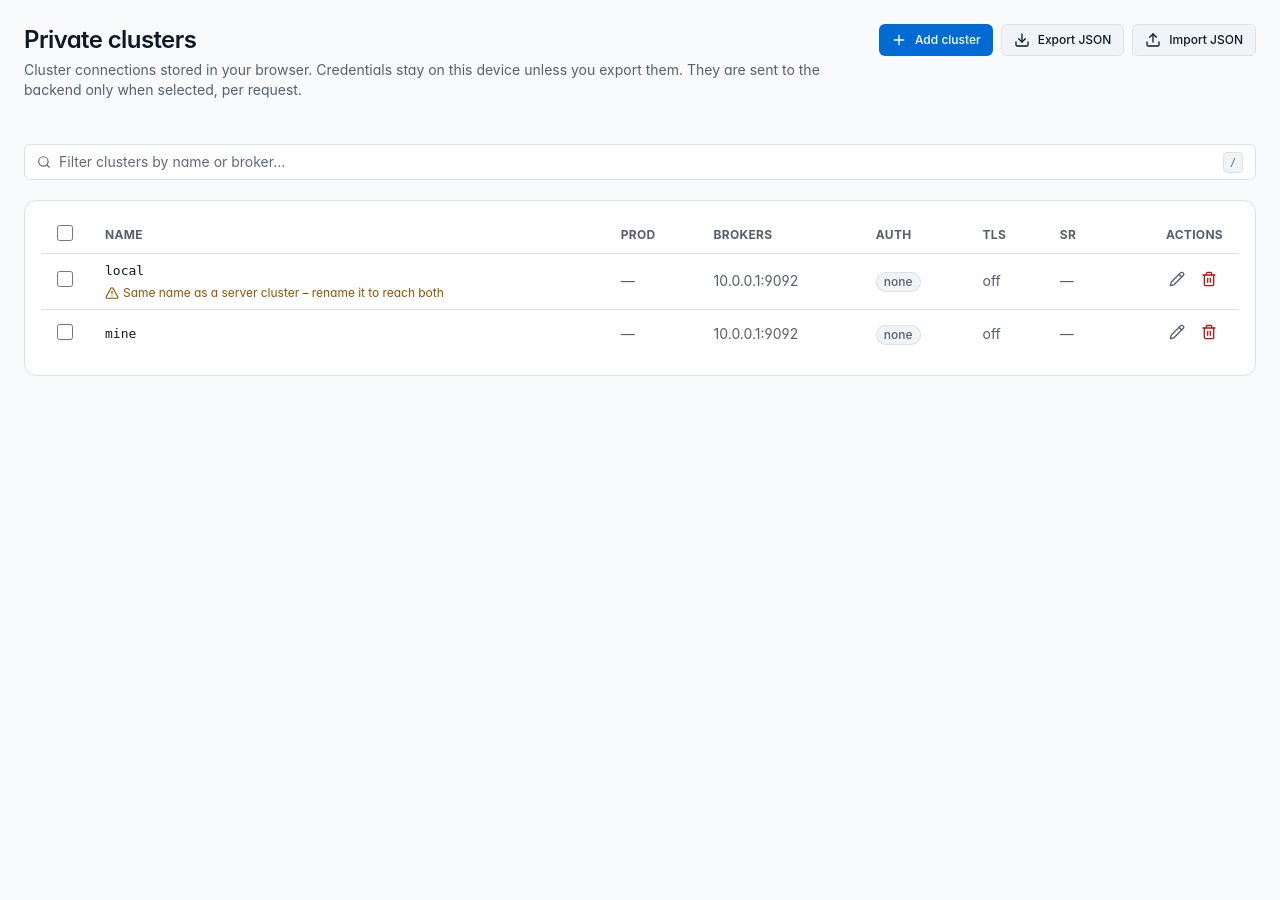
Test case: private cluster settings › flags a stored private cluster that collides, until it is renamed
The width and height of the screenshot is (1280, 900).
Click the button named "Edit" in the row of "local" at [1177, 279], box [1163,265,1191,293]
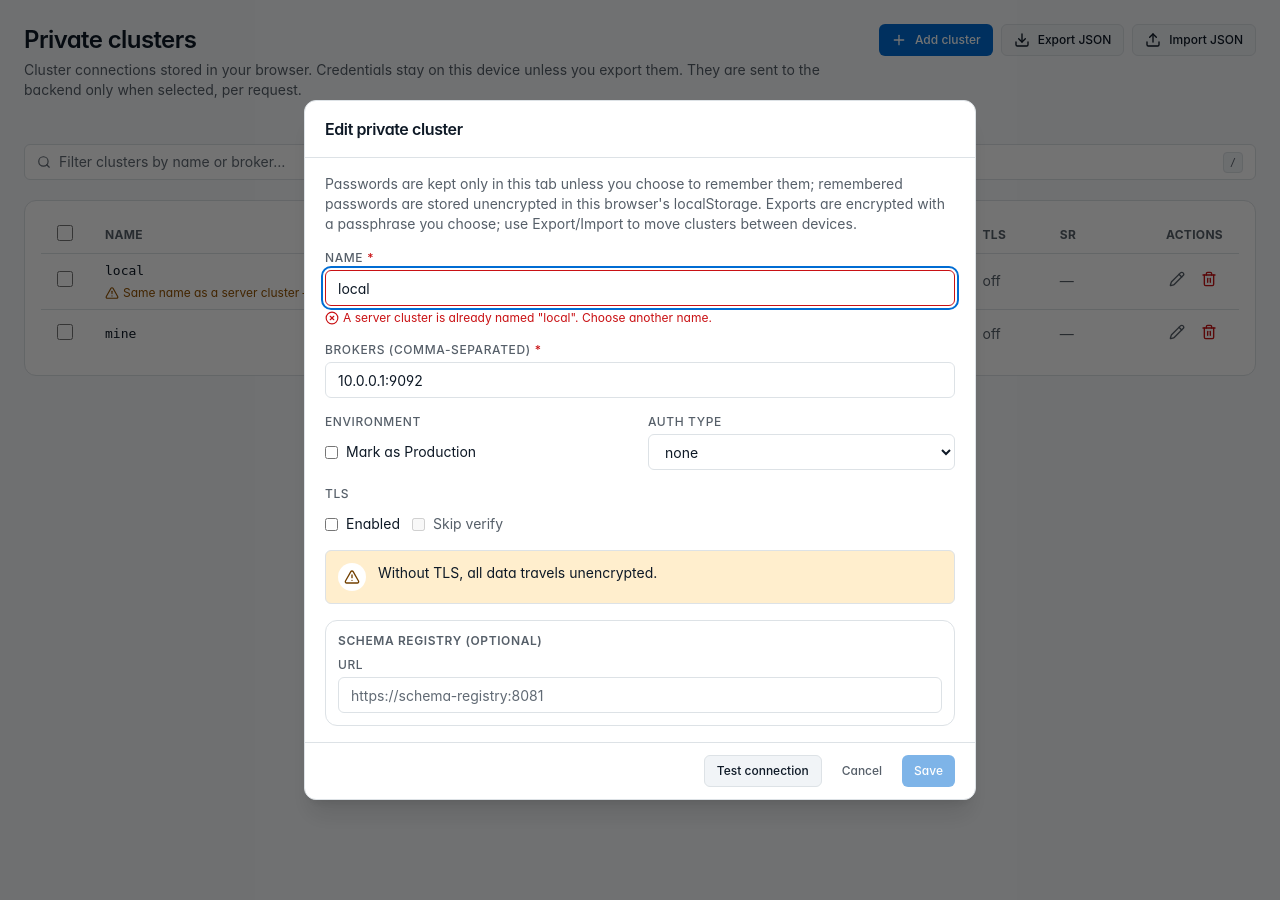
Expected: the button "Save" is disabled, [902,755,955,787]
Clear the field with placeholder "my-dev-cluster" at [640, 288], box [325,270,955,306]
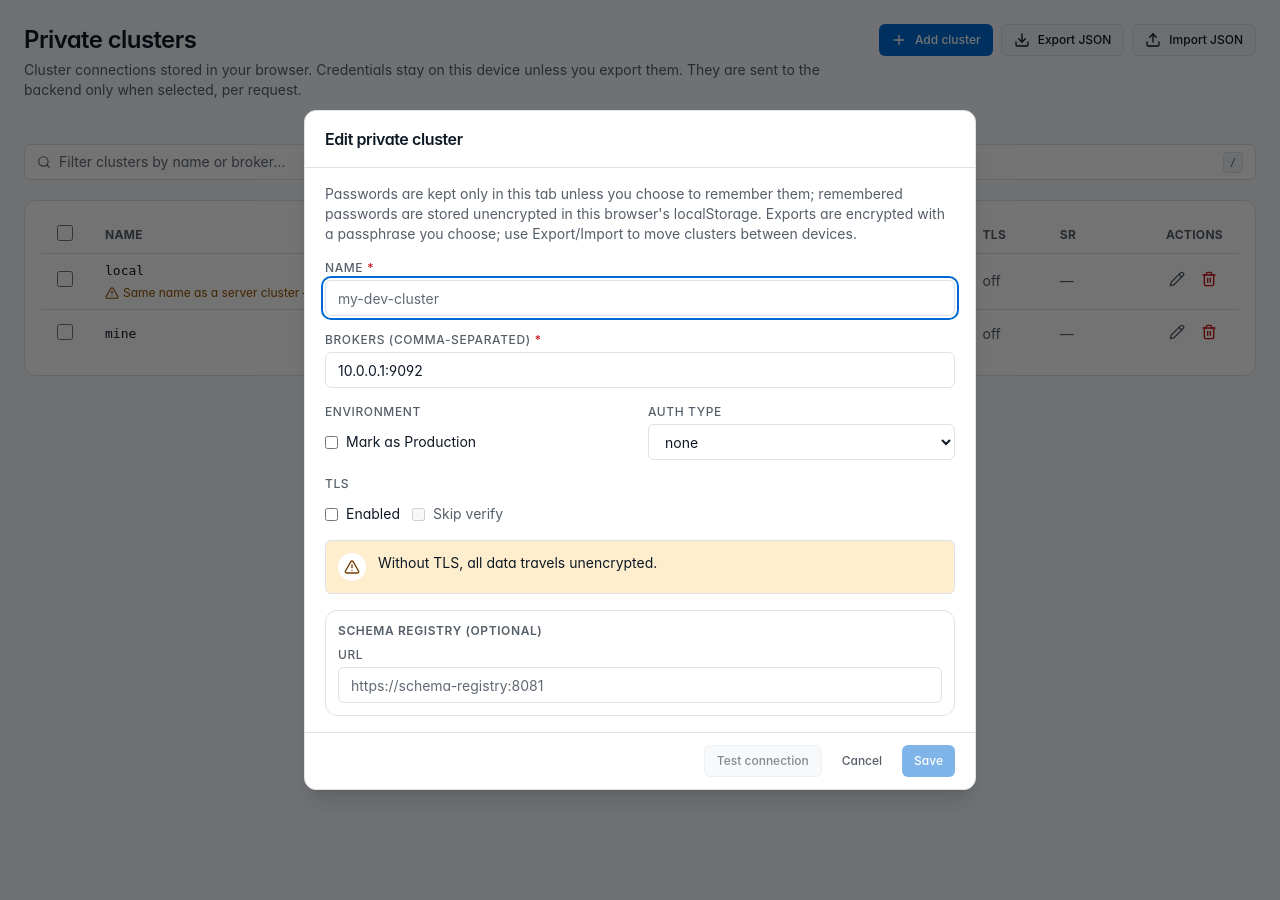
Type "local-private" into the field with placeholder "my-dev-cluster" at [640, 298], box [325,280,955,316]
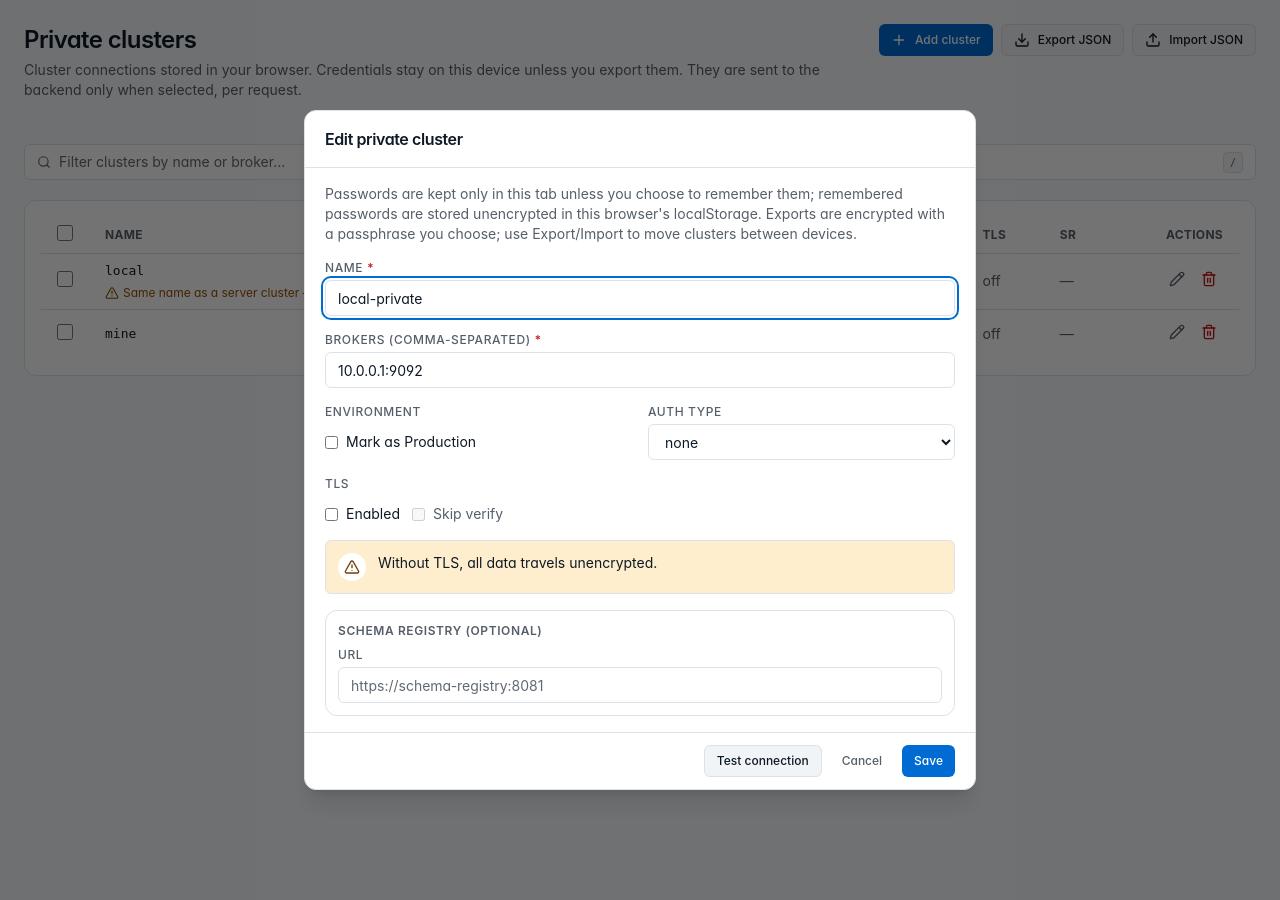
Click the button "Save" at [929, 761], box [902,745,955,777]
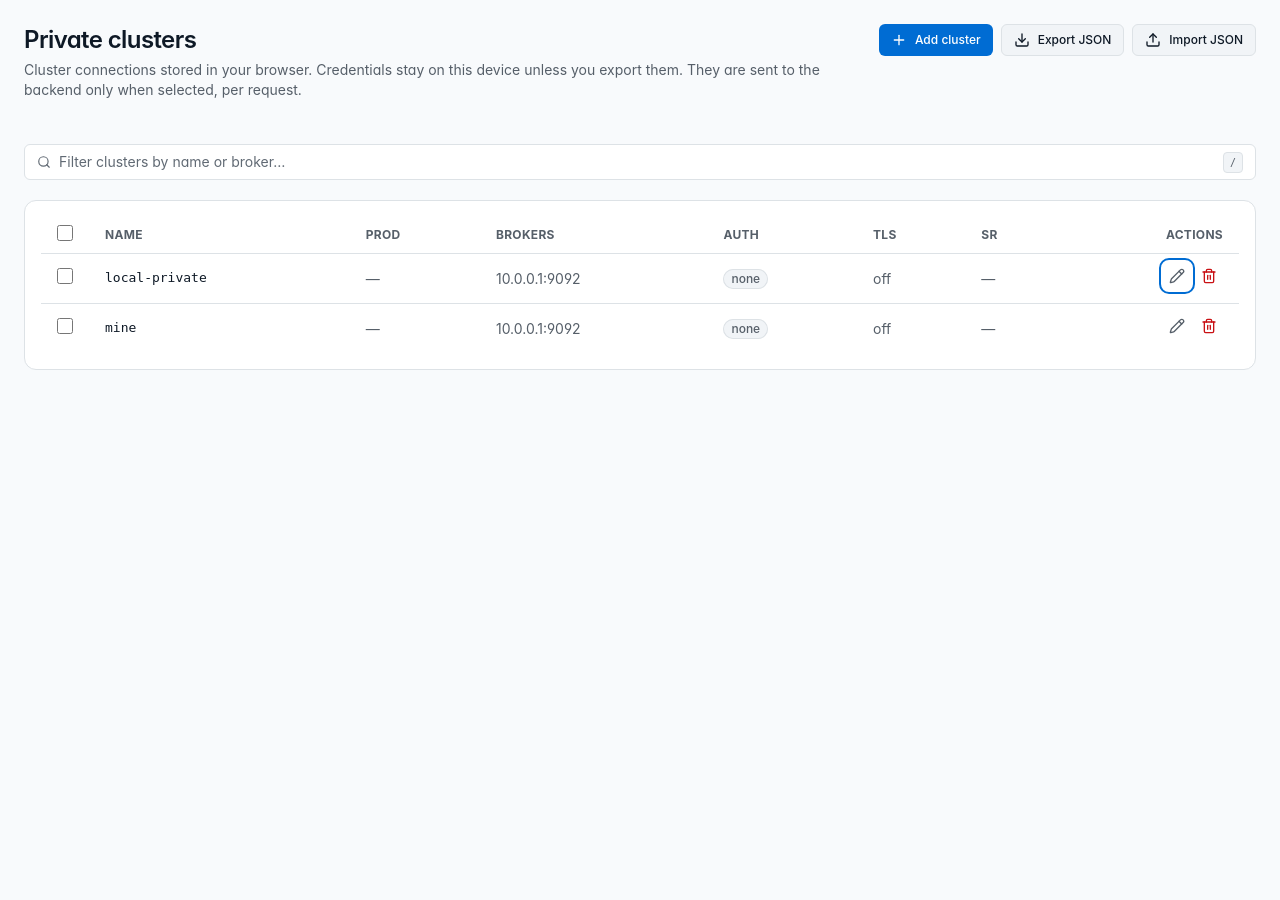
Expected: the row named "Select local-private for export" is shown, [41,254,1239,304]
Expected: the text "Same name as a server cluster – rename it to reach both" is gone
